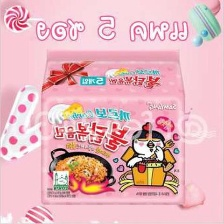snack: (32, 44, 196, 209)
